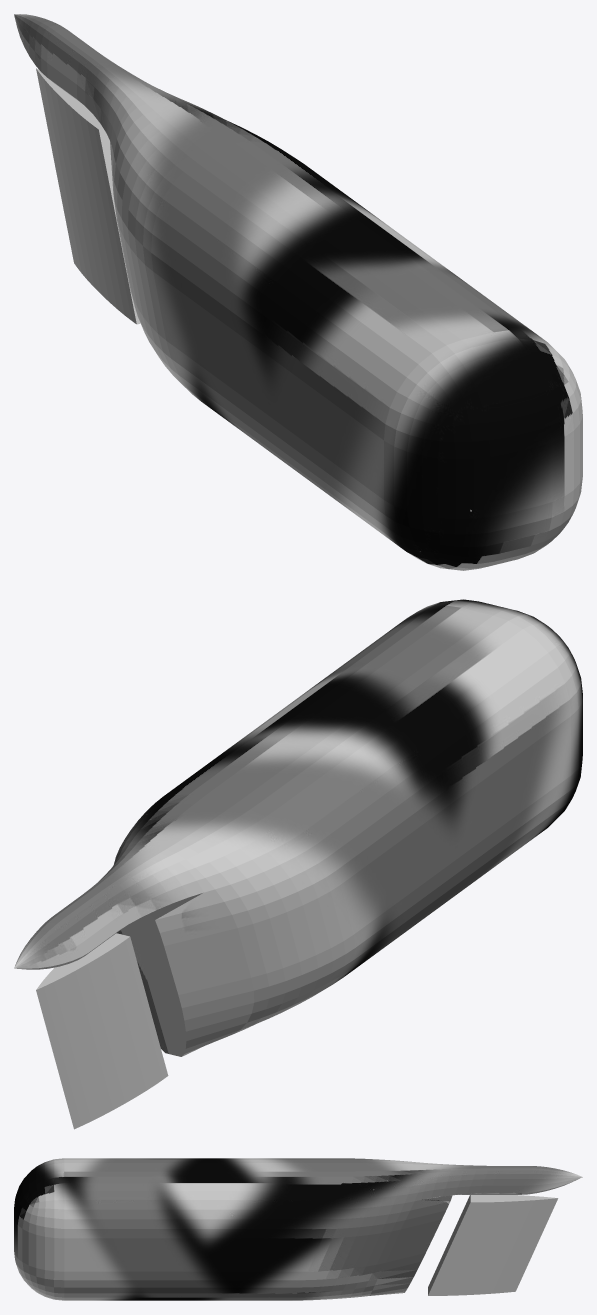
Rendered from airship.glb.
3 views of the same model, one above another, from view 1: azimuth 30°, elevation 25°; view 2: azimuth 150°, elevation 25°; view 3: azimuth 270°, elevation 25° (orthographic). The views are drawn at different scales.
Visible parts, largest first — view 1: Cube; view 2: Cube; view 3: Cube.
Boxes of the visible parts, x1=… form: Cube: x1=14, y1=14, x2=582, y2=570; Cube: x1=14, y1=599, x2=582, y2=1129; Cube: x1=14, y1=1158, x2=582, y2=1300.
Size of the model in its own units: 1.89 by 2.14 by 8.88.
Materials: 1 (1 with a texture image).
